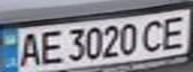0: (118, 20, 142, 56), (84, 24, 106, 61)
2: (100, 21, 124, 59)
3: (63, 26, 84, 62)
A: (12, 29, 45, 69)
C: (139, 16, 172, 53)
E: (157, 12, 193, 51), (33, 27, 63, 66)
